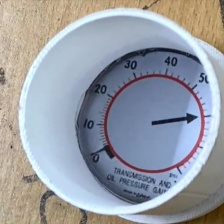gauge: (77, 49, 213, 204)
